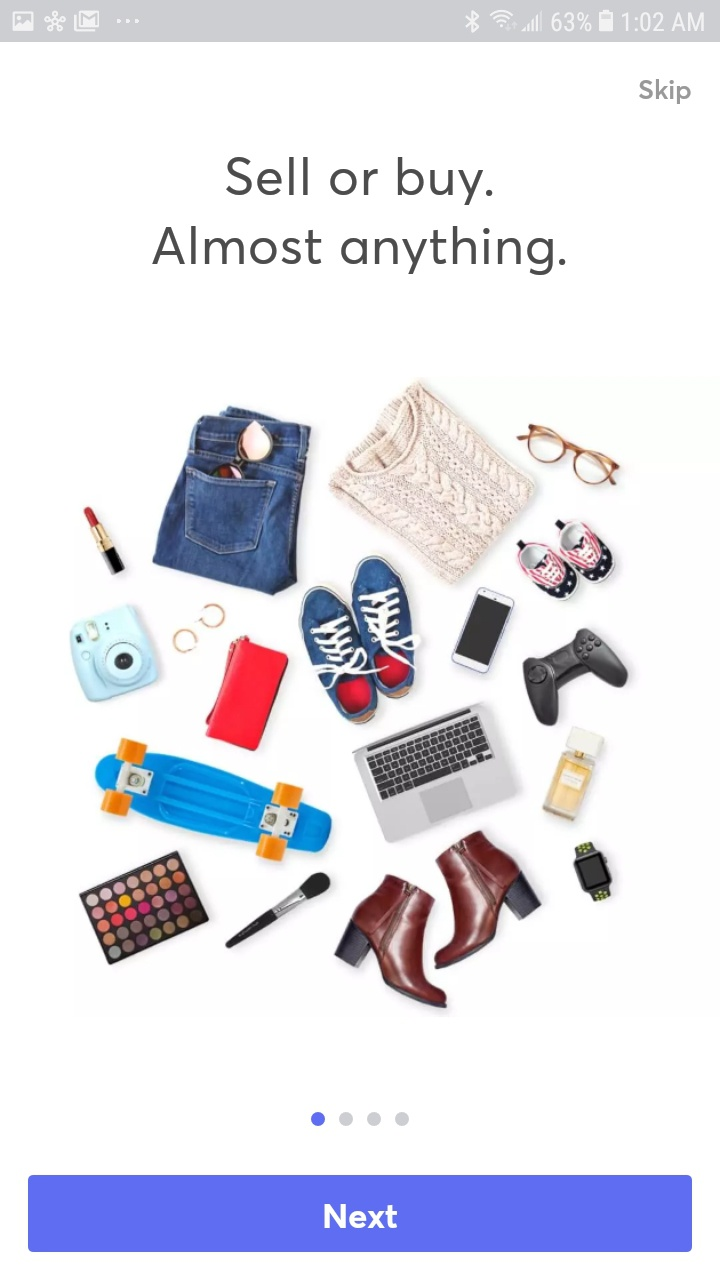Image: (69, 378, 630, 1011)
PageIndicator: (311, 1111, 410, 1127)
Text: (152, 226, 566, 276), (226, 157, 493, 206), (638, 79, 691, 105)
TextButton: (28, 1174, 692, 1252)
UpperTaskBar: (1, 1, 720, 43)
